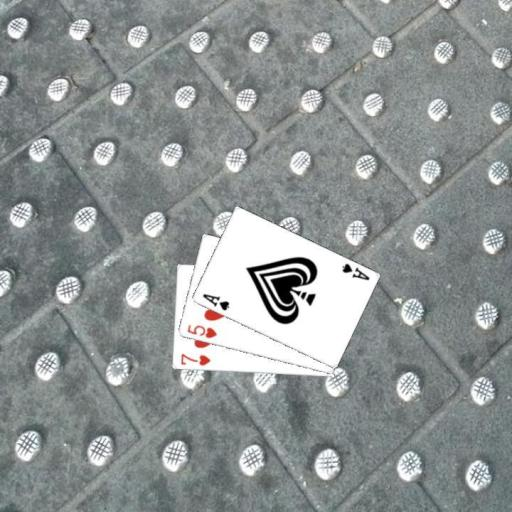5H: (184, 321, 218, 340)
7H: (177, 351, 212, 367)
AS: (339, 260, 371, 282), (199, 291, 231, 312)
